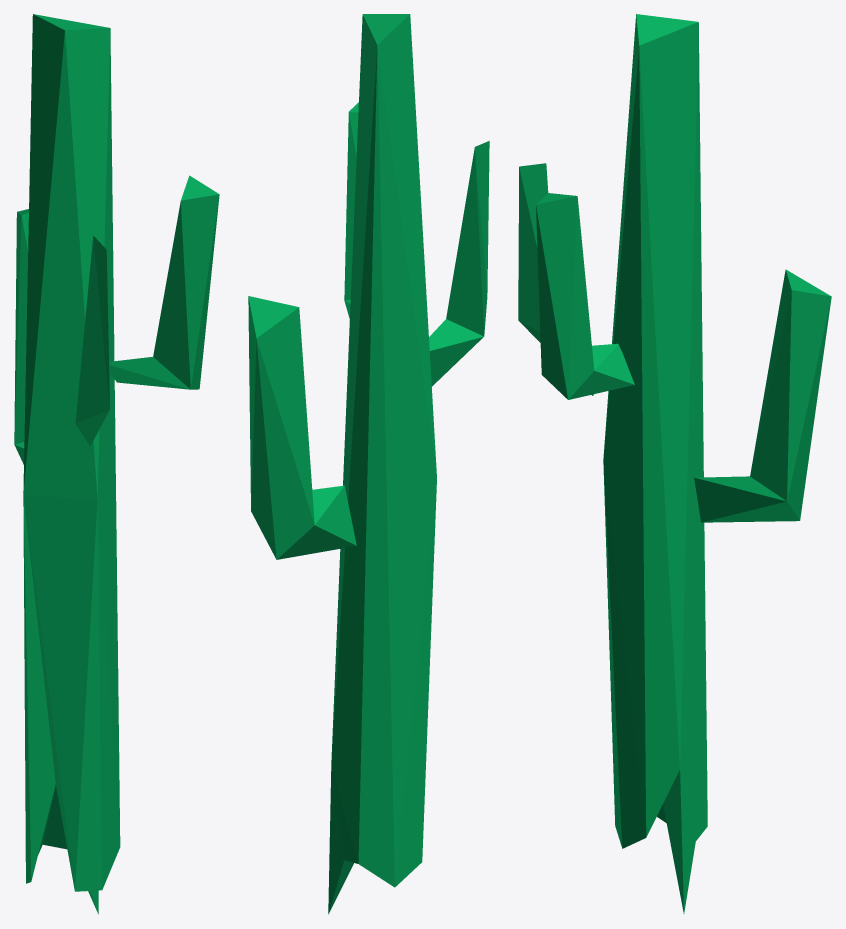
The model's file is SeguaroCactusLarge3_LOD3.fbx.
The picture shows the model from 3 angles, left to right: view 1: azimuth 30°, elevation 25°; view 2: azimuth 150°, elevation 25°; view 3: azimuth 270°, elevation 25°; orthographic projection. The views are drawn at different scales.
Parts seen in each view (by area): view 1: SeguaroCactusLarge3_LOD3; view 2: SeguaroCactusLarge3_LOD3; view 3: SeguaroCactusLarge3_LOD3.
Part boxes in pixels (x1,y1,x2,y2): SeguaroCactusLarge3_LOD3: (14, 14, 219, 914); SeguaroCactusLarge3_LOD3: (248, 14, 489, 914); SeguaroCactusLarge3_LOD3: (518, 14, 831, 913).
Bounding box in the file's own units: 203 × 624 × 97.25.
